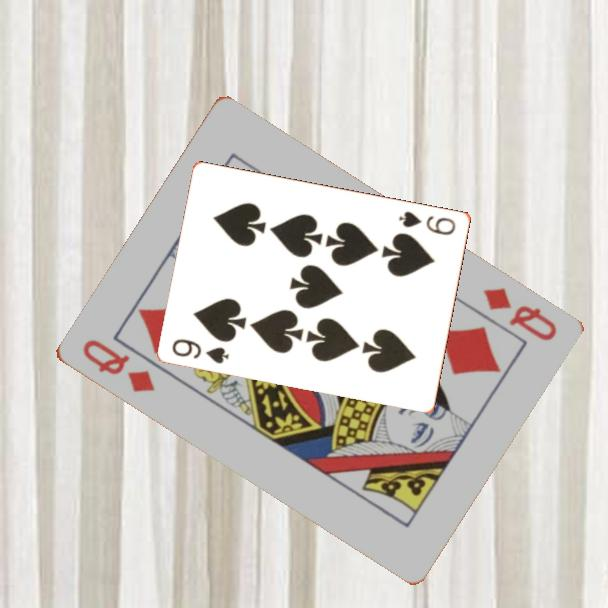d12: (479, 284, 560, 344), (78, 336, 158, 396)
s09: (396, 207, 459, 238), (169, 335, 232, 366)
